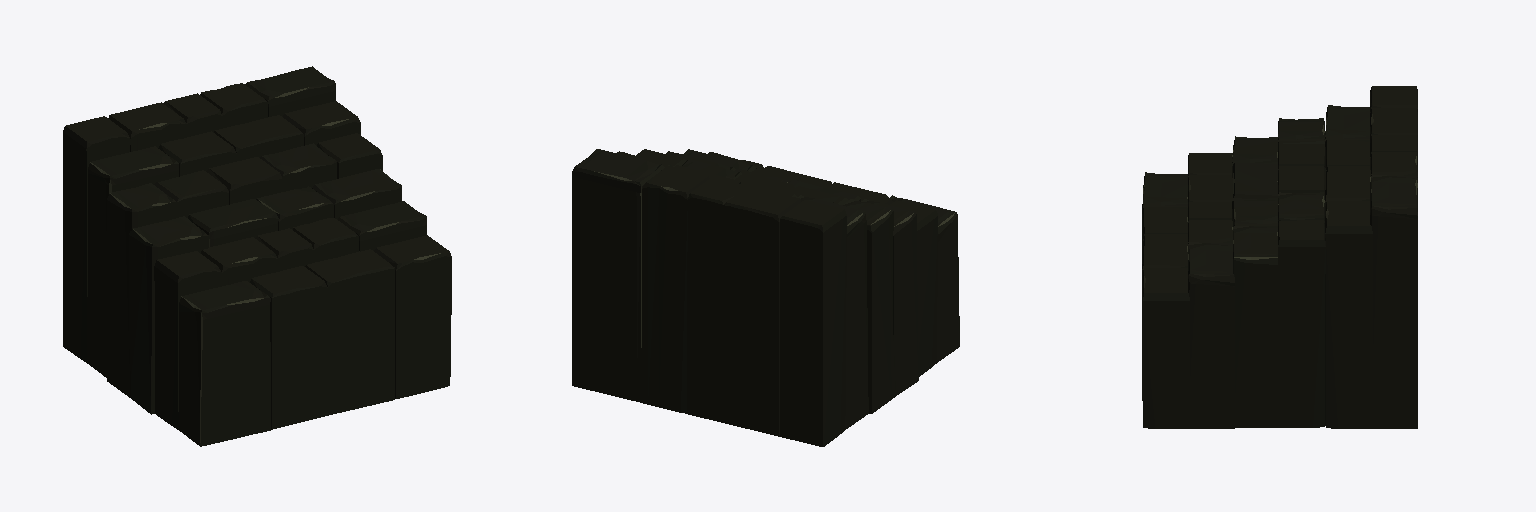
File: Stairs_2.obj
3 renders of one model, left to right at view 1: azimuth 30°, elevation 25°; view 2: azimuth 150°, elevation 25°; view 3: azimuth 270°, elevation 25°, orthographic.
Visible parts, largest first — view 1: Stairs_2_Cylinder.024; view 2: Stairs_2_Cylinder.024; view 3: Stairs_2_Cylinder.024.
Part boxes in pixels (left/top/right/bottom): Stairs_2_Cylinder.024: left=63, top=66, right=451, bottom=446; Stairs_2_Cylinder.024: left=572, top=149, right=959, bottom=446; Stairs_2_Cylinder.024: left=1142, top=86, right=1417, bottom=428.
Bounding box in the file's own units: 2.15 × 1.78 × 2.02.